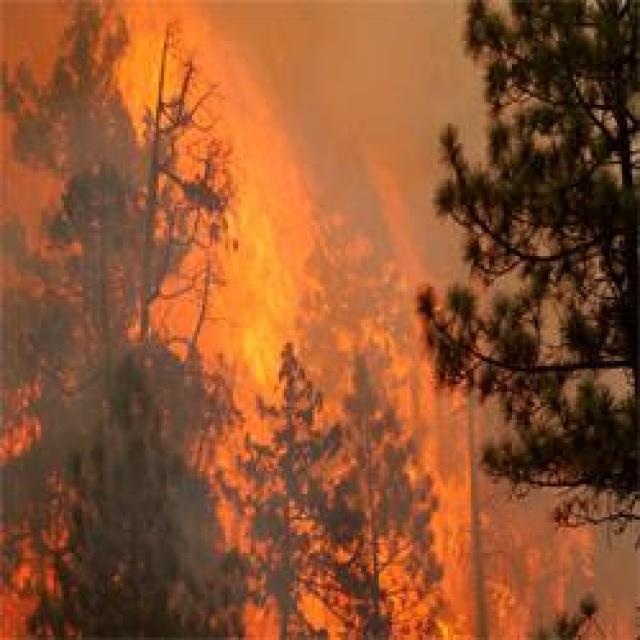fire: (0, 0, 477, 640), (484, 498, 608, 640)
